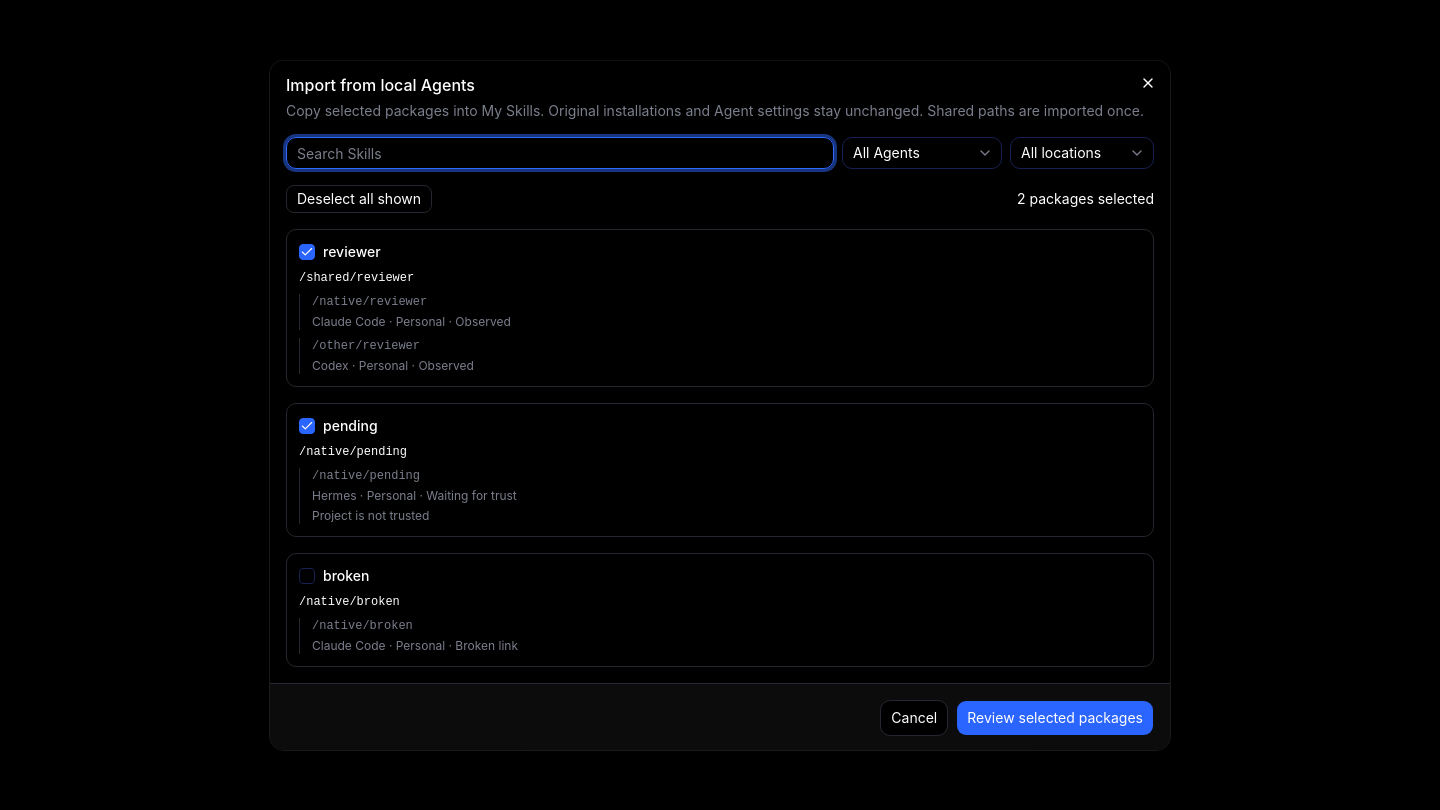
Test: SkillImportDialog › distinguishes successful and failed imports with the same display name by source paths
Click the button "Review selected packages" at (1055, 718), box x1=956 y1=700 x2=1154 y2=736
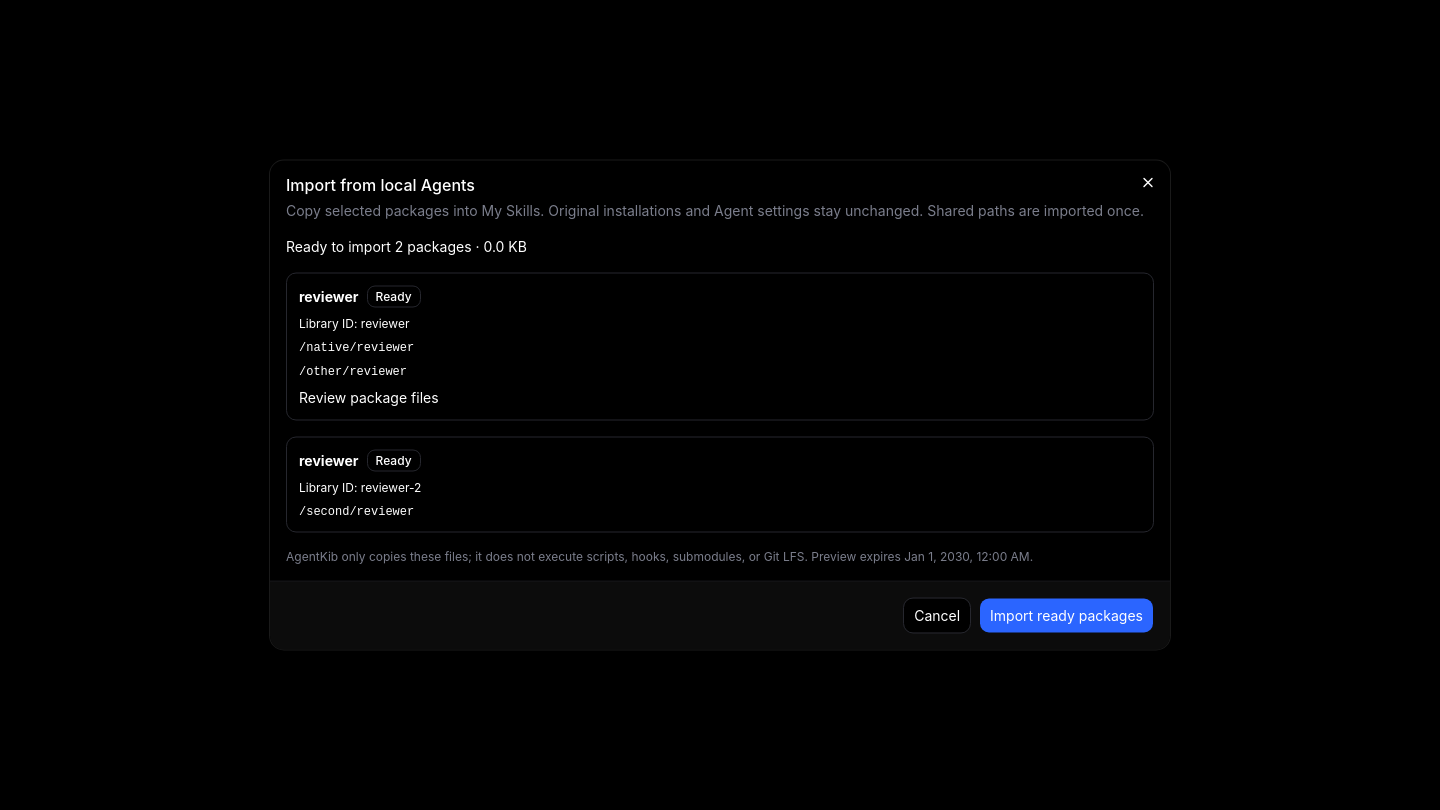
Click the button "Import ready packages" at (1067, 616), box x1=979 y1=598 x2=1154 y2=634
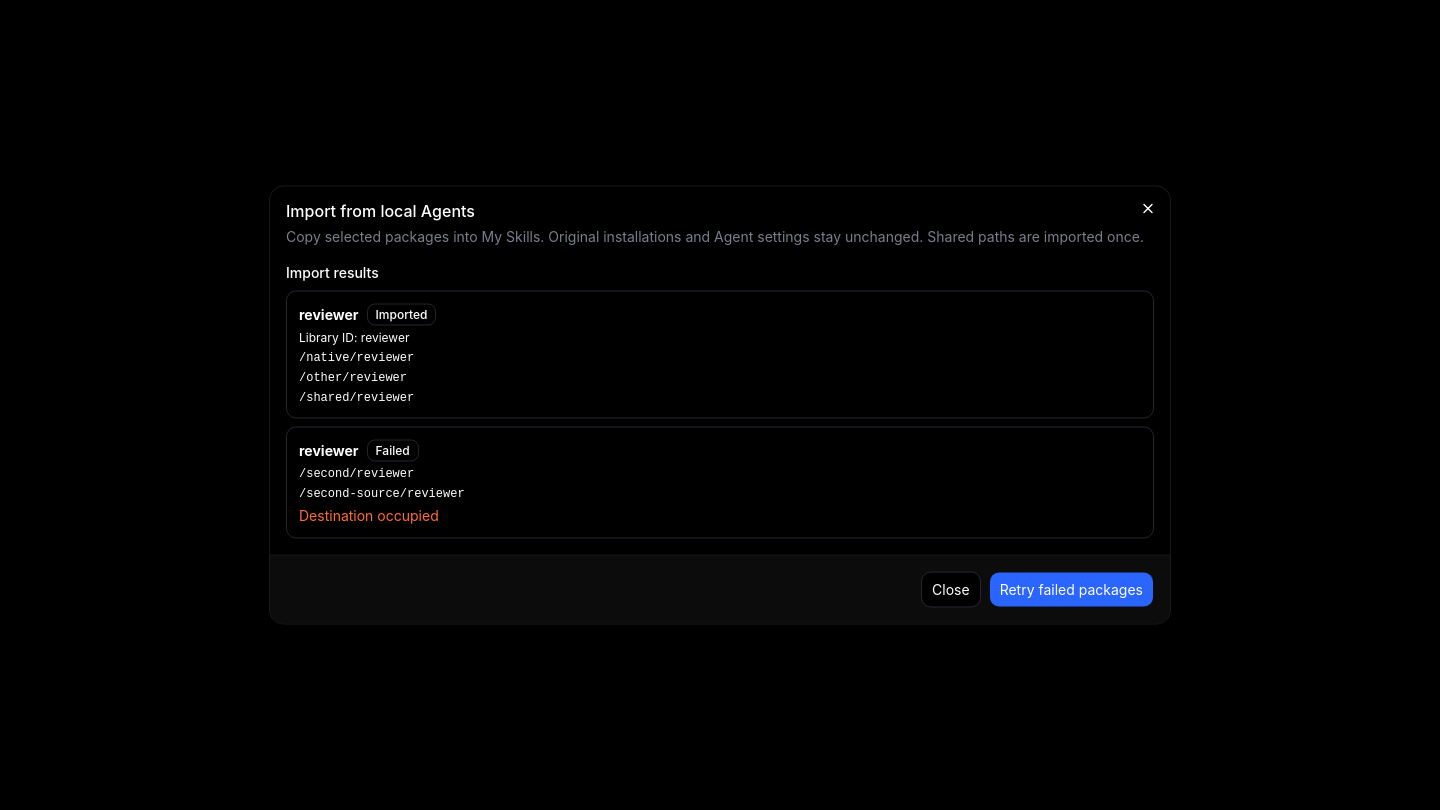
expect the text "Library ID: reviewer" is shown: met, box x1=299 y1=330 x2=410 y2=344
expect the text "Import results" is shown: met, box x1=286 y1=264 x2=379 y2=280
expect the text "Imported" is shown: met, box x1=366 y1=304 x2=436 y2=326
